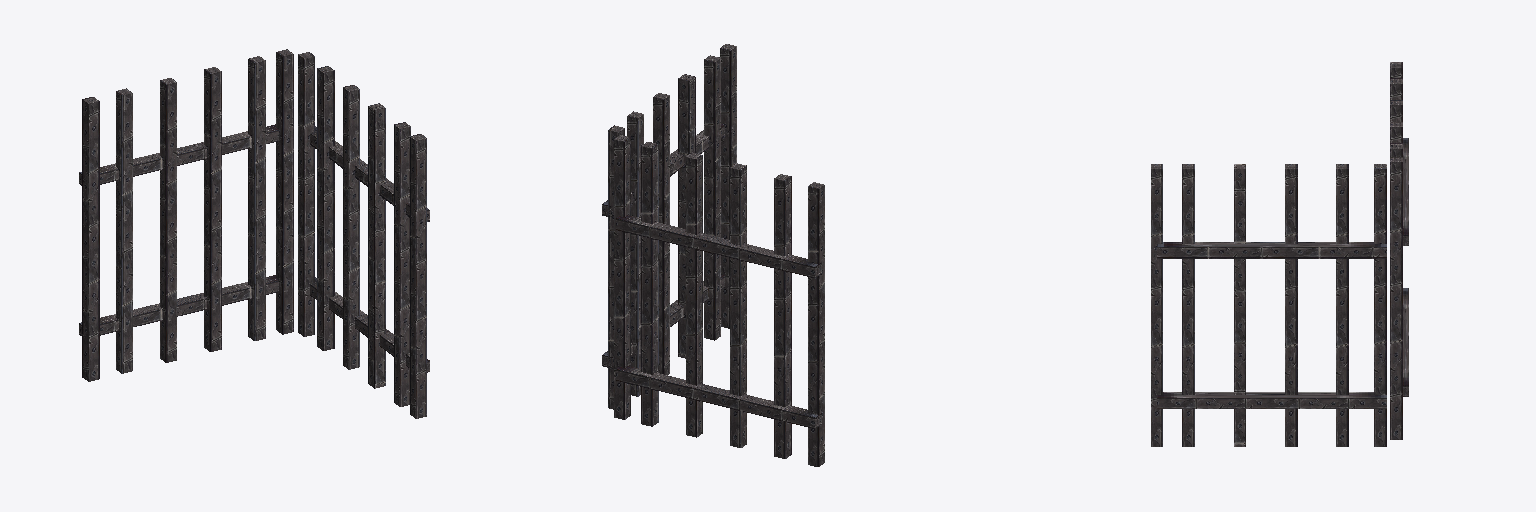
3 views of the same model, side by side, from view 1: azimuth 30°, elevation 25°; view 2: azimuth 150°, elevation 25°; view 3: azimuth 270°, elevation 25° (orthographic).
Visible parts, largest first — view 1: pasted__pCube1 polySurface11, pasted__pCube1 polySurface13, pasted__pCube1 polySurface7, pasted__pCube1 polySurface6, pasted__pCube1 polySurface5, pasted__pCube1 polySurface9, polySurface1 pasted__pCube1, pasted__pCube1 polySurface16, pasted__pCube1 polySurface14, pasted__pCube1 polySurface3, pasted__pCube1 polySurface4, pasted__pCube1 polySurface2 (+4 smaller); view 2: pasted__pCube1 polySurface16, pasted__pCube1 polySurface6, pasted__pCube1 polySurface11, pasted__pCube1 polySurface2, pasted__pCube1 polySurface7, pasted__pCube1 polySurface14, pasted__pCube1 polySurface13, pasted__pCube1 polySurface12, pasted__pCube1 polySurface15, pasted__pCube1 polySurface4, polySurface1 pasted__pCube1, pasted__pCube1 polySurface9 (+4 smaller); view 3: pasted__pCube1 polySurface10, pasted__pCube1 polySurface8, pasted__pCube1 polySurface7, pasted__pCube1 polySurface2, pasted__pCube1 polySurface3, pasted__pCube1 polySurface4, pasted__pCube1 polySurface5, polySurface1 pasted__pCube1, pasted__pCube1 polySurface9, pasted__pCube1 polySurface15, pasted__pCube1 polySurface12.
Part boxes in pixels (left/top/right/bottom): pasted__pCube1 polySurface11: left=82, top=97, right=99, bottom=381; pasted__pCube1 polySurface13: left=204, top=67, right=221, bottom=351; pasted__pCube1 polySurface7: left=276, top=49, right=293, bottom=334; pasted__pCube1 polySurface6: left=248, top=56, right=265, bottom=340; pasted__pCube1 polySurface5: left=317, top=66, right=334, bottom=350; pasted__pCube1 polySurface9: left=368, top=103, right=385, bottom=388; polySurface1 pasted__pCube1: left=410, top=134, right=426, bottom=418; pasted__pCube1 polySurface16: left=116, top=88, right=132, bottom=373; pasted__pCube1 polySurface14: left=160, top=78, right=176, bottom=362; pasted__pCube1 polySurface3: left=298, top=52, right=314, bottom=336; pasted__pCube1 polySurface4: left=343, top=85, right=359, bottom=369; pasted__pCube1 polySurface2: left=394, top=122, right=410, bottom=406; pasted__pCube1 polySurface16: left=774, top=174, right=791, bottom=458; pasted__pCube1 polySurface6: left=641, top=142, right=658, bottom=426; pasted__pCube1 polySurface11: left=808, top=182, right=824, bottom=466; pasted__pCube1 polySurface2: left=704, top=55, right=720, bottom=340; pasted__pCube1 polySurface7: left=614, top=135, right=630, bottom=419; pasted__pCube1 polySurface14: left=730, top=163, right=746, bottom=447; pasted__pCube1 polySurface13: left=686, top=152, right=702, bottom=437; pasted__pCube1 polySurface12: left=616, top=215, right=821, bottom=278; pasted__pCube1 polySurface15: left=616, top=366, right=821, bottom=428; pasted__pCube1 polySurface4: left=653, top=93, right=669, bottom=374; polySurface1 pasted__pCube1: left=720, top=44, right=736, bottom=328; pasted__pCube1 polySurface9: left=678, top=74, right=695, bottom=358; pasted__pCube1 polySurface10: left=1157, top=242, right=1386, bottom=258; pasted__pCube1 polySurface8: left=1157, top=392, right=1386, bottom=408; pasted__pCube1 polySurface7: left=1390, top=157, right=1402, bottom=439; pasted__pCube1 polySurface2: left=1182, top=164, right=1194, bottom=446; pasted__pCube1 polySurface3: left=1374, top=164, right=1386, bottom=446; pasted__pCube1 polySurface4: left=1285, top=164, right=1297, bottom=446; pasted__pCube1 polySurface5: left=1336, top=164, right=1348, bottom=446; polySurface1 pasted__pCube1: left=1151, top=164, right=1162, bottom=446; pasted__pCube1 polySurface9: left=1234, top=164, right=1245, bottom=446; pasted__pCube1 polySurface15: left=1403, top=288, right=1408, bottom=396; pasted__pCube1 polySurface12: left=1403, top=138, right=1408, bottom=245.
Bounding box in the file's own units: 20.25 × 24 × 20.25.
1 materials, 1 textured.